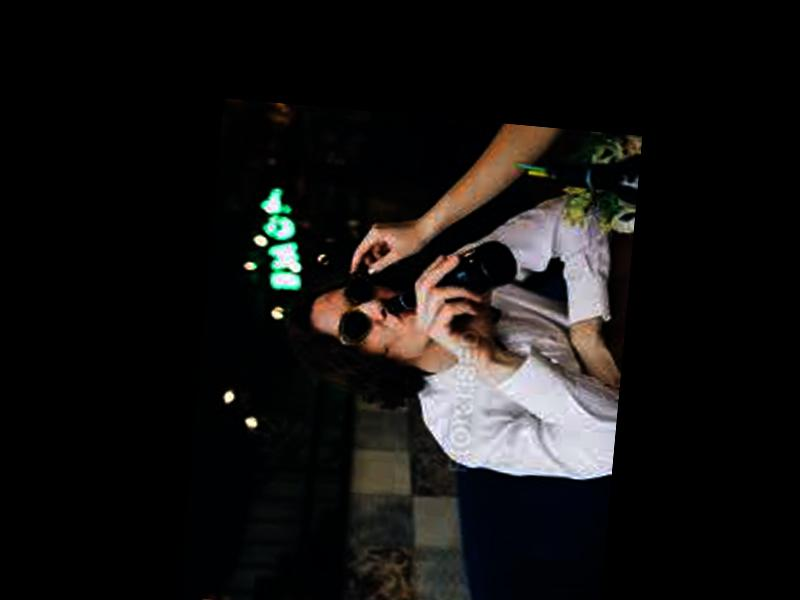Beer: (387, 229, 522, 324)
